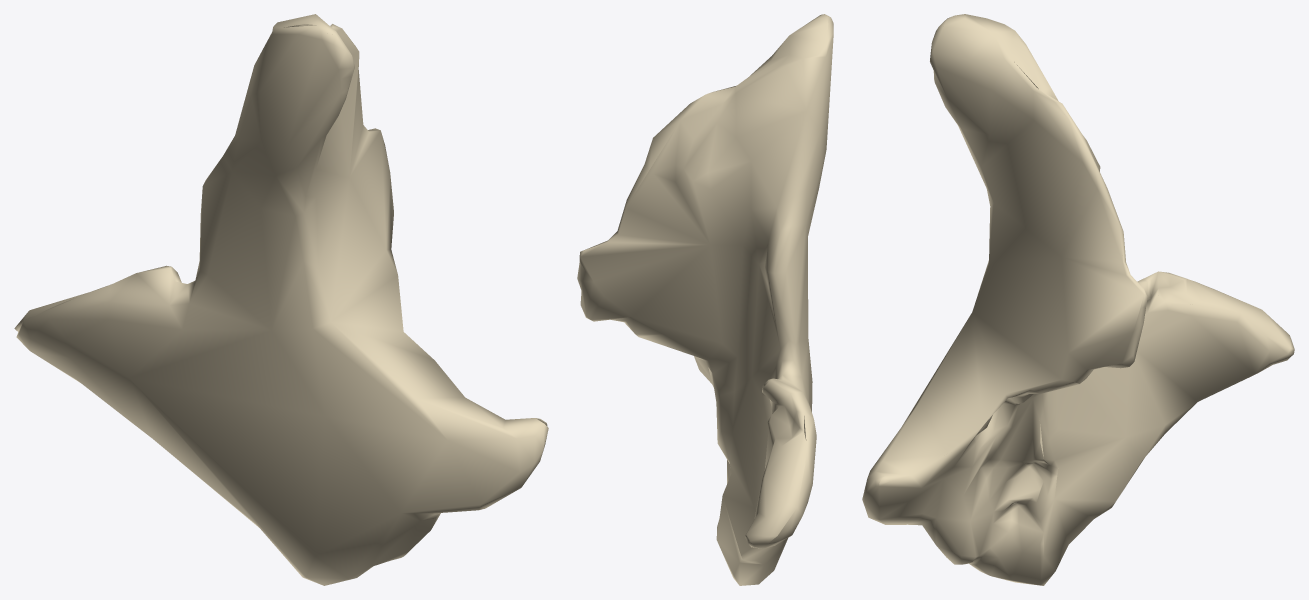
Rendered from esqueleto-zygomatic-bone-r.glb.
The picture shows the model from 3 angles, left to right: view 1: azimuth 30°, elevation 25°; view 2: azimuth 150°, elevation 25°; view 3: azimuth 270°, elevation 25°; orthographic projection. The views are drawn at different scales.
Parts seen in each view (by area): view 1: Zygomatic bone.r; view 2: Zygomatic bone.r; view 3: Zygomatic bone.r.
Boxes of the visible parts, <box> form: Zygomatic bone.r: <box>14,14,548,585</box>; Zygomatic bone.r: <box>577,14,833,585</box>; Zygomatic bone.r: <box>862,14,1294,585</box>.
Bounding box in the file's own units: 0.0307 × 0.0546 × 0.039.
